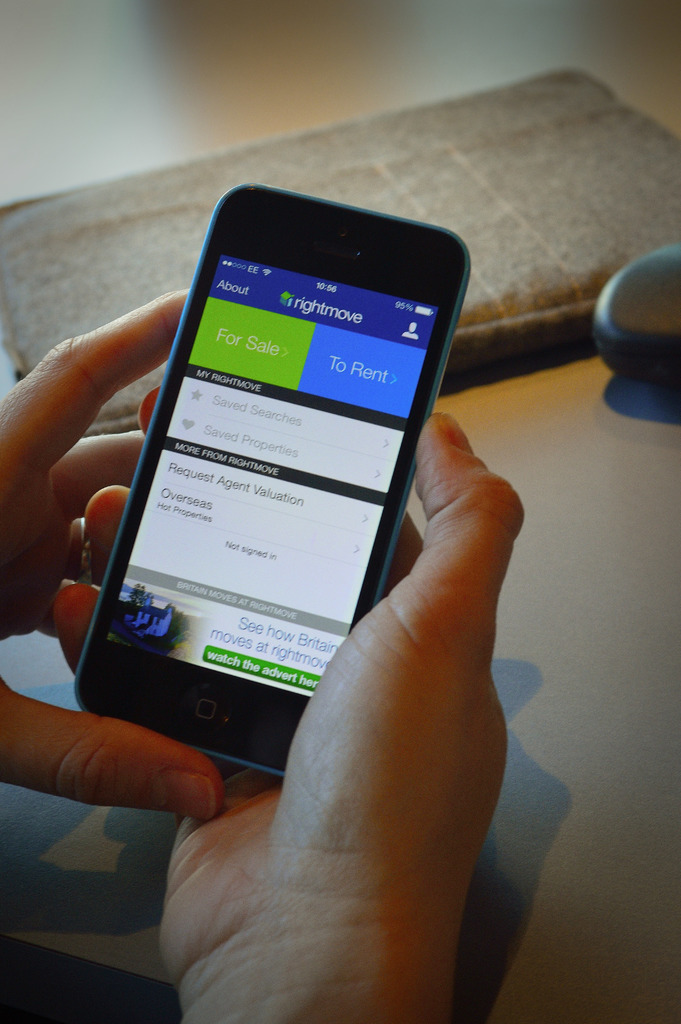mobile phone: (72, 177, 472, 757)
